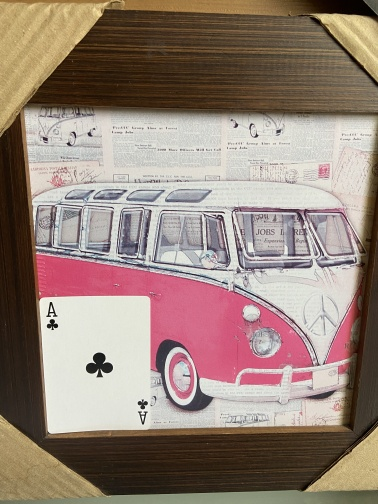ace: (37, 294, 152, 435)
